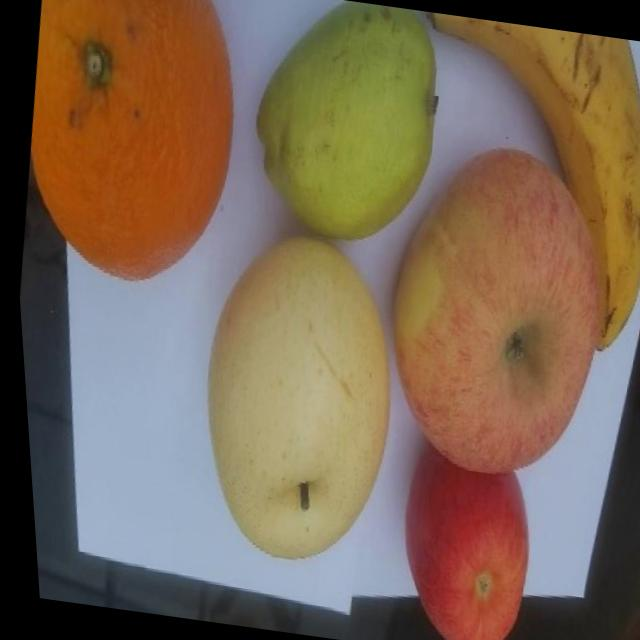Apple: (360, 133, 633, 489), (376, 435, 541, 640)
Banana: (383, 11, 640, 355)
Orange: (5, 0, 260, 293)
